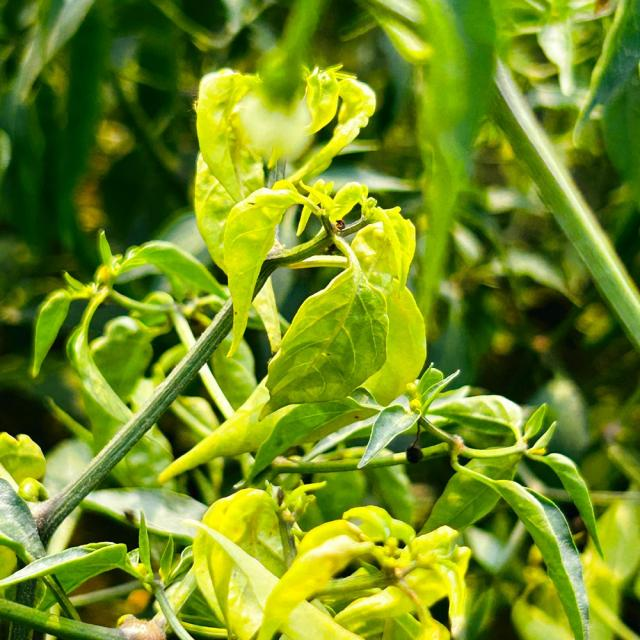Chilli_Leaf_Curl: (2, 53, 608, 638), (157, 189, 427, 483), (191, 55, 378, 358), (260, 202, 426, 418), (420, 459, 592, 638), (257, 504, 471, 638), (217, 182, 321, 358)
